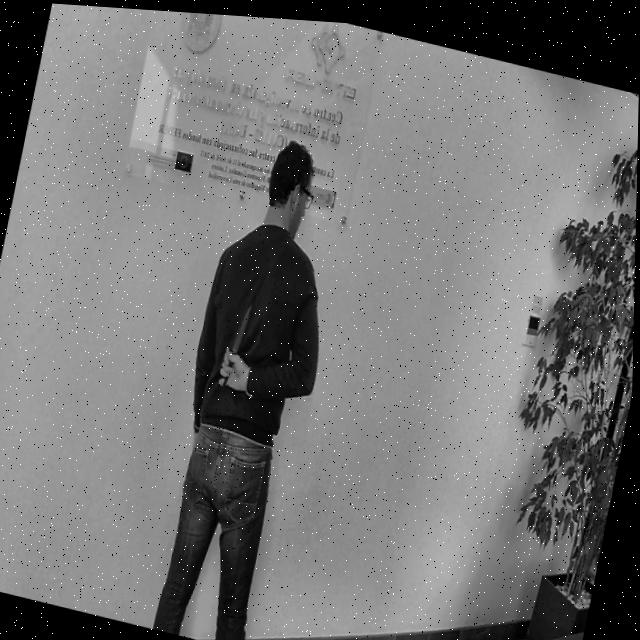knife: (229, 296, 253, 354)
